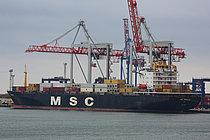Ship: (6, 71, 204, 115)
